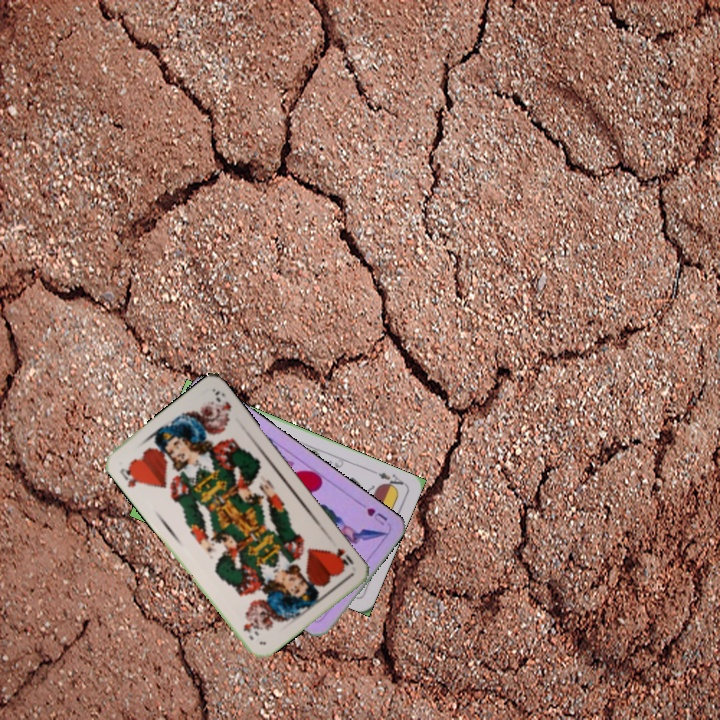EA: (374, 468, 407, 493)
HO: (116, 462, 145, 490), (328, 544, 356, 570)
HU: (362, 504, 390, 528)
